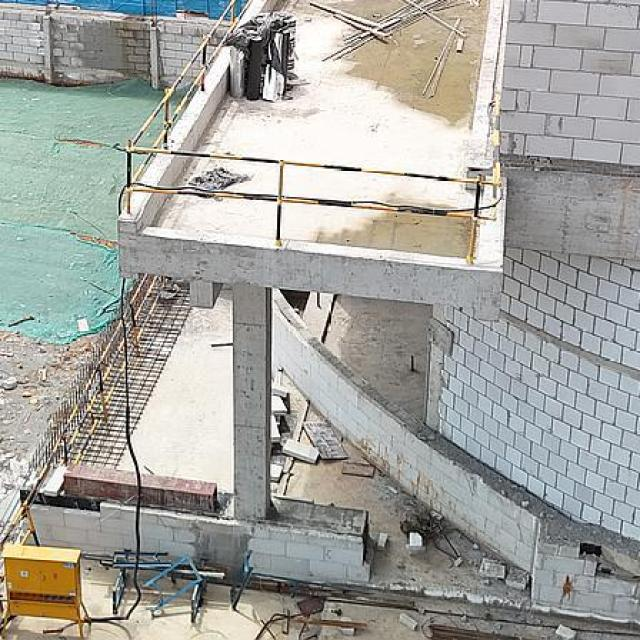edge_guardrail: (125, 0, 505, 264), (1, 270, 159, 550)
